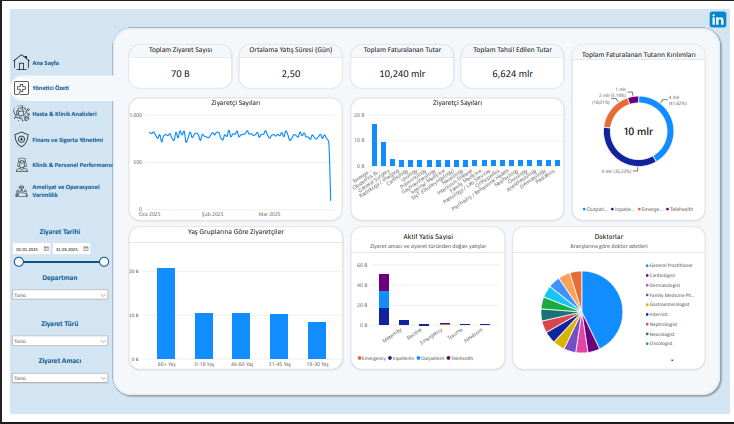

What the dashboard file says about the page in this screenshot:
{"tool":"powerbi","page":{"name":"Yönetici Özeti","canvas":[1920,1080],"ordinal":1},"visuals":[{"type":"shape","box":[267.1,41.4,1635.7,995.7],"z":0},{"type":"actionButton","title":"Yönetici Özeti","box":[0,177.1,317.1,68.6],"z":1000},{"type":"image","box":[0,184.3,61.4,52.9],"z":2000},{"type":"actionButton","title":"Yönetici Özeti","box":[0,108.6,254.3,68.6],"z":3000},{"type":"image","box":[5.7,120,50,44.3],"z":4000},{"type":"actionButton","title":"Yönetici Özeti","box":[0,245.7,290,68.6],"z":5000},{"type":"image","box":[5.7,257.1,50,44.3],"z":6000},{"type":"actionButton","title":"Yönetici Özeti","box":[0,314.3,290,68.6],"z":7000},{"type":"image","box":[5.7,325.7,50,44.3],"z":8000},{"type":"actionButton","title":"Yönetici Özeti","box":[0,382.9,290,68.6],"z":9000},{"type":"image","box":[5.7,394.3,50,44.3],"z":10000},{"type":"actionButton","title":"Yönetici Özeti","box":[0,451.4,290,68.6],"z":11000},{"type":"image","box":[5.7,462.9,50,44.3],"z":12000},{"type":"image","box":[1854.3,0,65.7,55.7],"z":13000},{"type":"slicer","title":"Ziyaret Tarihi","fields":{"Values":["encounters.visit_date"]},"box":[0,580,267.1,122.9],"z":14000},{"type":"slicer","title":"Departman","fields":{"Values":["encounters.department"]},"box":[0,702.9,267.1,122.9],"z":15000},{"type":"slicer","title":"Ziyaret Türü","fields":{"Values":["encounters.visit_type"]},"box":[0,825.7,267.1,122.9],"z":16000},{"type":"slicer","title":"Ziyaret Amacı","fields":{"Values":["encounters.admission_type"]},"box":[0,925.7,267.1,122.9],"z":17000},{"type":"cardVisual","title":"Toplam Ziyaret Sayısı","fields":{"Data":["Count(encounters.encounter_id)"]},"box":[317.1,94.3,274.3,117.1],"z":18000},{"type":"cardVisual","title":"Ortalama Yatış Süresi (Gün)","fields":{"Data":["Avg(encounters.length_of_stay)"]},"box":[611.4,94.3,274.3,117.1],"z":19000},{"type":"cardVisual","title":"Toplam Faturalanan Tutar","fields":{"Data":["Sum(claims_and_billing.billed_amount)"]},"box":[908.6,94.3,274.3,117.1],"z":20000},{"type":"cardVisual","title":"Toplam Tahsil Edilen Tutar","fields":{"Data":["Sum(claims_and_billing.paid_amount)"]},"box":[1202.9,94.3,274.3,117.1],"z":21000},{"type":"donutChart","title":"Toplam Faturalanan Tutarın Kırılımları","fields":{"Category":["patients.gender","encounters.department","encounters.visit_type"],"Y":["Sum(claims_and_billing.billed_amount)"]},"box":[1498.6,94.3,355.7,470],"z":22000},{"type":"lineChart","title":"Ziyaretçi Sayıları","fields":{"Category":["encounters.visit_date.Varyasyon.Tarih Hiyerarşisi.Yıl","encounters.visit_date.Varyasyon.Tarih Hiyerarşisi.Ay","encounters.visit_date.Varyasyon.Tarih Hiyerarşisi.Gün"],"Y":["CountNonNull(encounters.encounter_id)"]},"box":[317.1,237.1,568.6,327.1],"z":23000},{"type":"clusteredColumnChart","title":"Ziyaretçi Sayıları","fields":{"Category":["encounters.department"],"Y":["CountNonNull(encounters.encounter_id)"]},"box":[908.6,237.1,568.6,327.1],"z":24000},{"type":"columnChart","title":"Yaş Gruplarına Göre Ziyaretçiler","fields":{"Category":["patients.yas_grubu"],"Y":["CountNonNull(patients.patient_id)"]},"box":[317.1,580,570,381.4],"z":25000},{"type":"columnChart","title":"Aktif Yatis Sayisi","fields":{"Category":["encounters.admission_type"],"Series":["encounters.visit_type"],"Y":["encounters.Aktif_Yatis_Sayisi"]},"box":[908.6,580,411.4,381.4],"z":26000},{"type":"pieChart","title":"Doktorlar","fields":{"Category":["providers.specialty"],"Y":["Count(providers.provider_id)"]},"box":[1340,580,514.3,381.4],"z":27000}]}

Visuals, with their boxes in screenshot pixels (x1, y1, x2, y2), scaled from the page's 1920x1080 canvas onto the 734x424 screenshot:
shape: 102/16/727/407
"Yönetici Özeti" actionButton: 0/70/121/96
image: 0/72/23/93
"Yönetici Özeti" actionButton: 0/43/97/70
image: 2/47/21/65
"Yönetici Özeti" actionButton: 0/96/111/123
image: 2/101/21/118
"Yönetici Özeti" actionButton: 0/123/111/150
image: 2/128/21/145
"Yönetici Özeti" actionButton: 0/150/111/177
image: 2/155/21/172
"Yönetici Özeti" actionButton: 0/177/111/204
image: 2/182/21/199
image: 709/0/733/22
"Ziyaret Tarihi" slicer: 0/228/102/276
"Departman" slicer: 0/276/102/324
"Ziyaret Türü" slicer: 0/324/102/372
"Ziyaret Amacı" slicer: 0/363/102/412
"Toplam Ziyaret Sayısı" cardVisual: 121/37/226/83
"Ortalama Yatış Süresi (Gün)" cardVisual: 234/37/339/83
"Toplam Faturalanan Tutar" cardVisual: 347/37/452/83
"Toplam Tahsil Edilen Tutar" cardVisual: 460/37/565/83
"Toplam Faturalanan Tutarın Kırılımları" donutChart: 573/37/709/222
"Ziyaretçi Sayıları" lineChart: 121/93/339/222
"Ziyaretçi Sayıları" clusteredColumnChart: 347/93/565/222
"Yaş Gruplarına Göre Ziyaretçiler" columnChart: 121/228/339/377
"Aktif Yatis Sayisi" columnChart: 347/228/505/377
"Doktorlar" pieChart: 512/228/709/377
